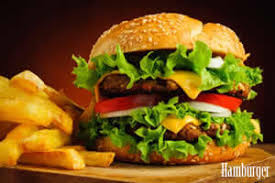hamburger: (88, 12, 261, 163)
